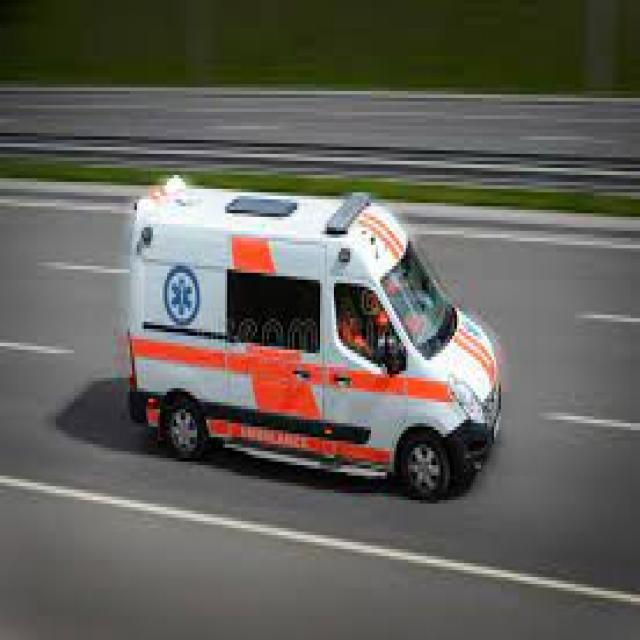emergency-vehicle: (120, 161, 508, 514)
